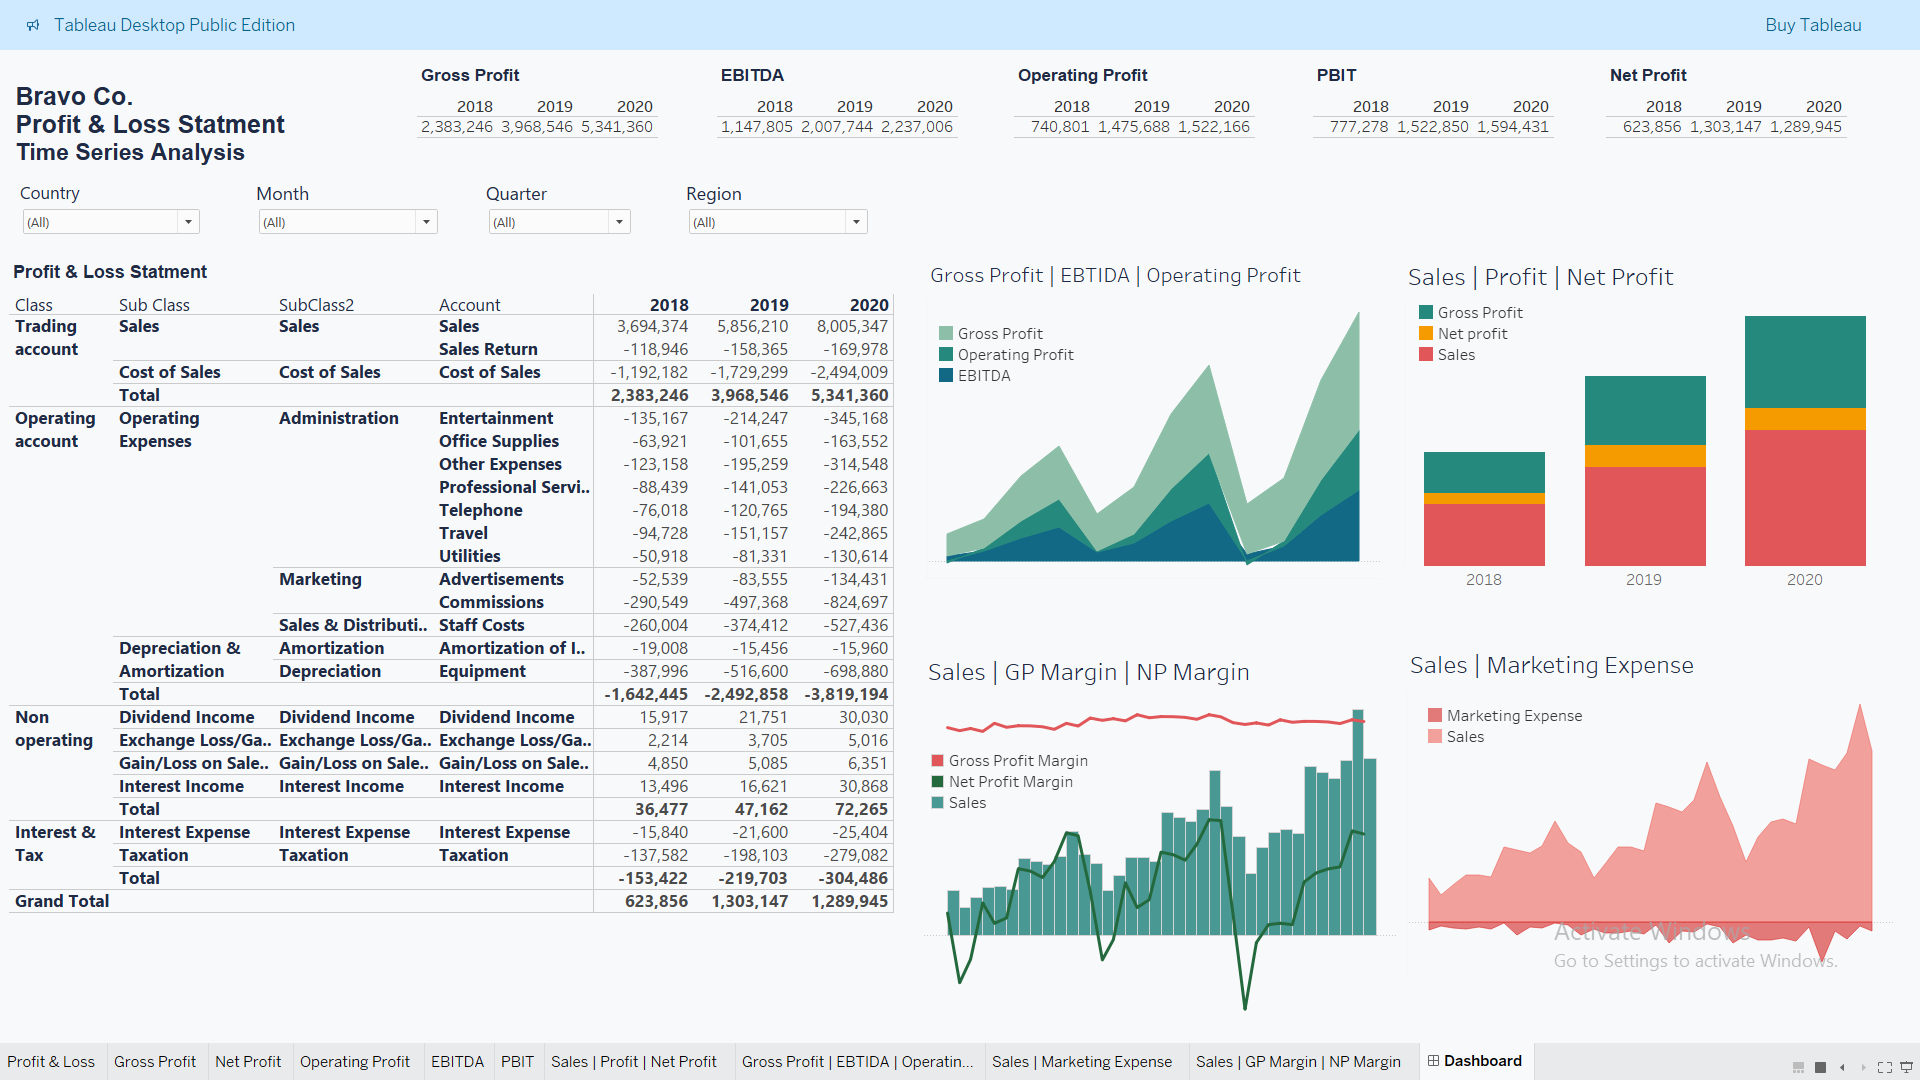

What the dashboard file says about the page in this screenshot:
{"tool":"tableau","page":{"name":"Dashboard ","canvas":[1000,1000],"units":"permille","ordinal":0},"visuals":[{"type":"title","box":[6,7.5,223.9,134.8]},{"type":"worksheet","title":"Gross Profit","mark":"Automatic","cols":["Date (GL)"],"box":[217.3,12.5,156.9,124.8]},{"type":"worksheet","title":"EBITDA","mark":"Automatic","cols":["Date (GL)"],"box":[373.6,12.5,156.9,124.8]},{"type":"worksheet","title":"Operating Profit","mark":"Automatic","cols":["Date (GL)"],"box":[528.1,12.5,156.9,124.8]},{"type":"worksheet","title":"PBIT","mark":"Automatic","cols":["Date (GL)"],"box":[683.8,12.5,156.9,124.8]},{"type":"worksheet","title":"Net Profit","mark":"Automatic","cols":["Date (GL)"],"box":[836.5,12.5,156.9,124.8]},{"type":"filter","title":"Profit & Loss","param":"[federated.0tigouo1fs8gs11an1vlg1mqjxgs].[none:Country:nk]","box":[10.3,132.3,95.4,99.9]},{"type":"filter","title":"Profit & Loss","param":"[federated.0tigouo1fs8gs11an1vlg1mqjxgs].[none:Month:nk]","box":[133.4,132.3,96.6,99.9]},{"type":"filter","title":"Profit & Loss","param":"[federated.0tigouo1fs8gs11an1vlg1mqjxgs].[none:Quarter:nk]","box":[252.9,132.3,77.2,99.9]},{"type":"filter","title":"Profit & Loss","param":"[federated.0tigouo1fs8gs11an1vlg1mqjxgs].[none:Region:nk]","box":[357.3,132.3,96.6,99.9]},{"type":"worksheet","title":"Gross Profit | EBTIDA | Operating Profit","mark":"Area","cols":["Date"],"box":[482.5,207.2,236.4,333.3]},{"type":"worksheet","title":"Sales | Profit | Net Profit","mark":"Bar","cols":["Date"],"box":[731.3,207.2,250.9,337.1]},{"type":"legend","title":"Sales | Profit | Net Profit","param":"[federated.0tigouo1fs8gs11an1vlg1mqjxgs].[:Measure Names]","box":[737.5,253.4,84.5,102.4]},{"type":"legend","title":"Gross Profit | EBTIDA | Operating Profit","param":"[federated.0tigouo1fs8gs11an1vlg1mqjxgs].[:Measure Names]","box":[487.4,274.7,92.1,89.9]},{"type":"worksheet","title":"Sales | Marketing Expense","mark":"Area","cols":["Date"],"box":[732.4,598,254.7,333.3]},{"type":"worksheet","title":"Sales | GP Margin | NP Margin","mark":"Automatic","rows":["Calculation_603482370496737280"],"cols":["Date"],"box":[481.4,605.5,246.1,377]},{"type":"legend","title":"Sales | Marketing Expense","param":"[federated.0tigouo1fs8gs11an1vlg1mqjxgs].[:Measure Names]","box":[742.3,659.2,98.4,79.9]},{"type":"legend","title":"Sales | GP Margin | NP Margin","param":"[federated.0tigouo1fs8gs11an1vlg1mqjxgs].[:Measure Names]","box":[483,705.4,100.7,106.1]}]}

Visuals, with their boxes on the dashboard's canvas, which has no fixed pixel size, in thousandths of its width and height (x1, y1, x2, y2). These are canvas units, not pixel positions in the 1920x1080 screenshot, which may show the page scaled, cropped or inside an application window:
title: l=6, t=8, r=230, b=142
"Gross Profit" worksheet: l=217, t=12, r=374, b=137
"EBITDA" worksheet: l=374, t=12, r=530, b=137
"Operating Profit" worksheet: l=528, t=12, r=685, b=137
"PBIT" worksheet: l=684, t=12, r=841, b=137
"Net Profit" worksheet: l=836, t=12, r=993, b=137
"Profit & Loss" filter: l=10, t=132, r=106, b=232
"Profit & Loss" filter: l=133, t=132, r=230, b=232
"Profit & Loss" filter: l=253, t=132, r=330, b=232
"Profit & Loss" filter: l=357, t=132, r=454, b=232
"Gross Profit | EBTIDA | Operating Profit" worksheet (Area marks): l=482, t=207, r=719, b=540
"Sales | Profit | Net Profit" worksheet (Bar marks): l=731, t=207, r=982, b=544
"Sales | Profit | Net Profit" legend: l=738, t=253, r=822, b=356
"Gross Profit | EBTIDA | Operating Profit" legend: l=487, t=275, r=580, b=365
"Sales | Marketing Expense" worksheet (Area marks): l=732, t=598, r=987, b=931
"Sales | GP Margin | NP Margin" worksheet: l=481, t=606, r=728, b=982
"Sales | Marketing Expense" legend: l=742, t=659, r=841, b=739
"Sales | GP Margin | NP Margin" legend: l=483, t=705, r=584, b=812
